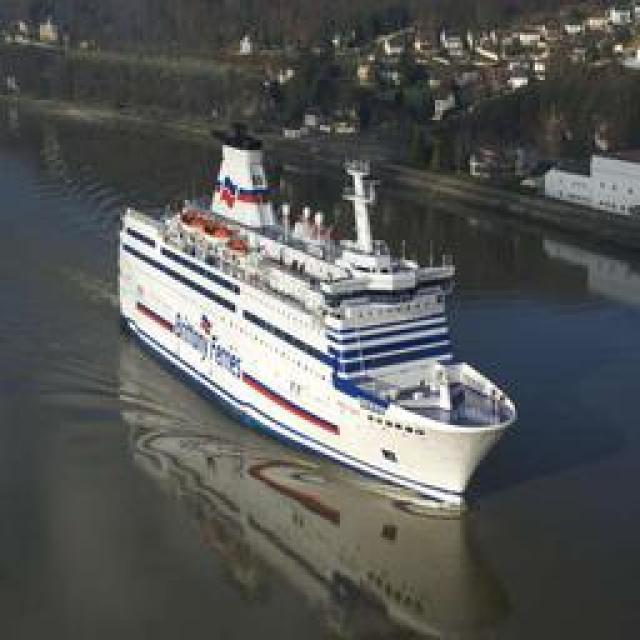ship2: (119, 145, 518, 508)
